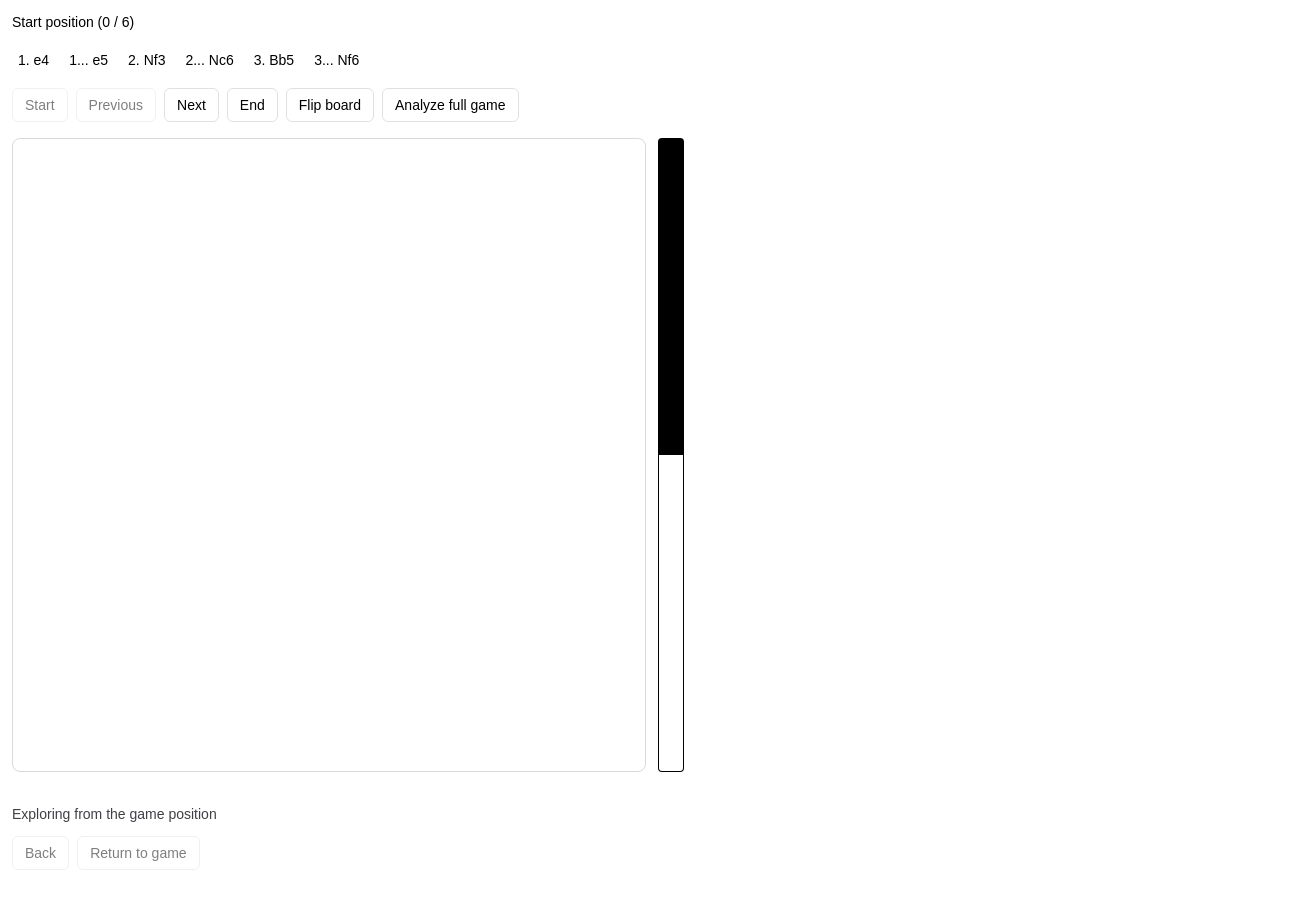
Test: ReviewBoard Opening Integration › updates the label when ply changes
Click the button "Next".
click(191, 105)  # box x1=164 y1=88 x2=219 y2=122
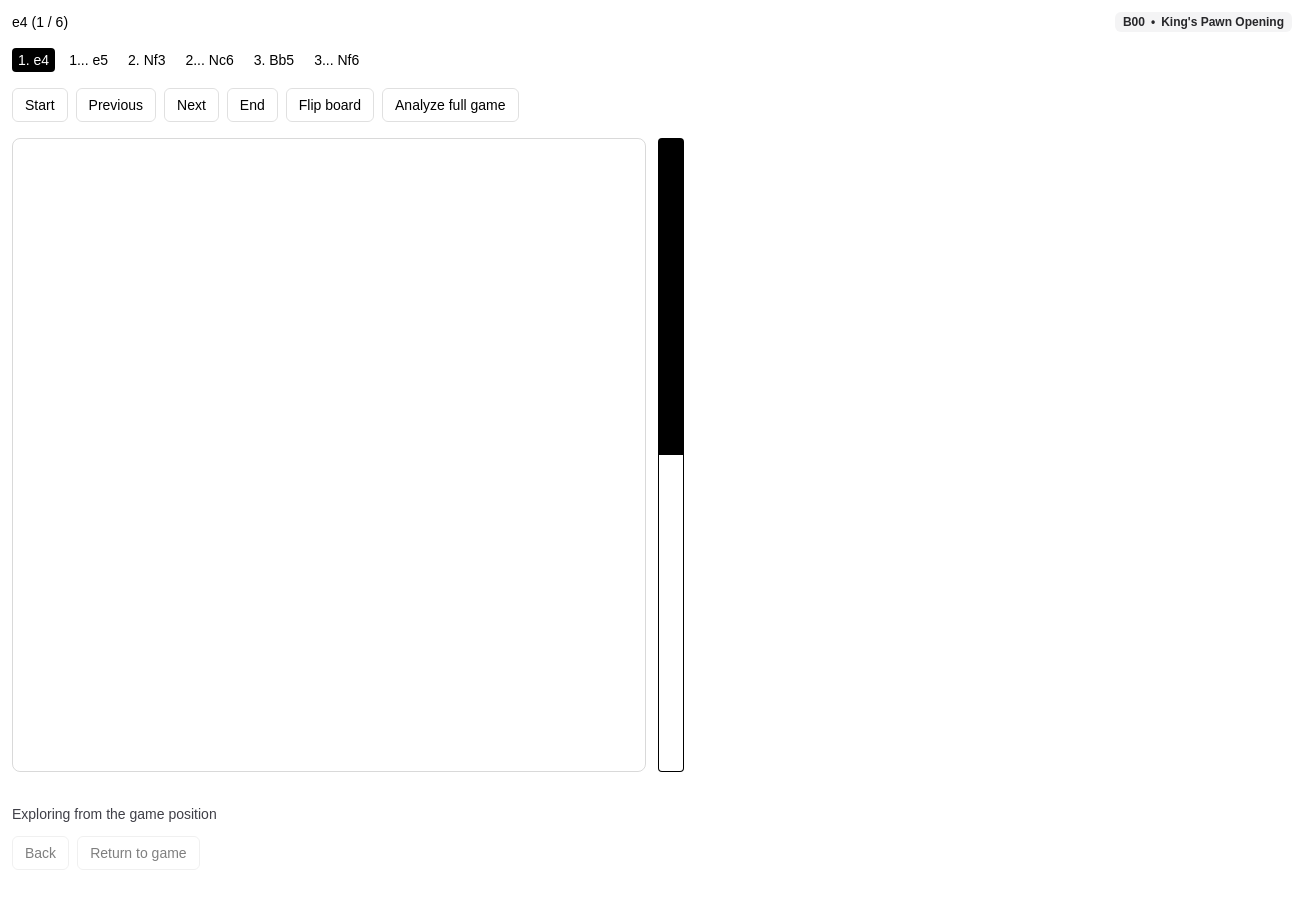
Expected: the text with test id "opening-eco" reads "B00", x1=1123 y1=15 x2=1145 y2=29
Expected: the text with test id "opening-name" reads "King's Pawn Opening", x1=1161 y1=15 x2=1284 y2=29
Click the button "Next".
click(191, 105)  # box x1=164 y1=88 x2=219 y2=122
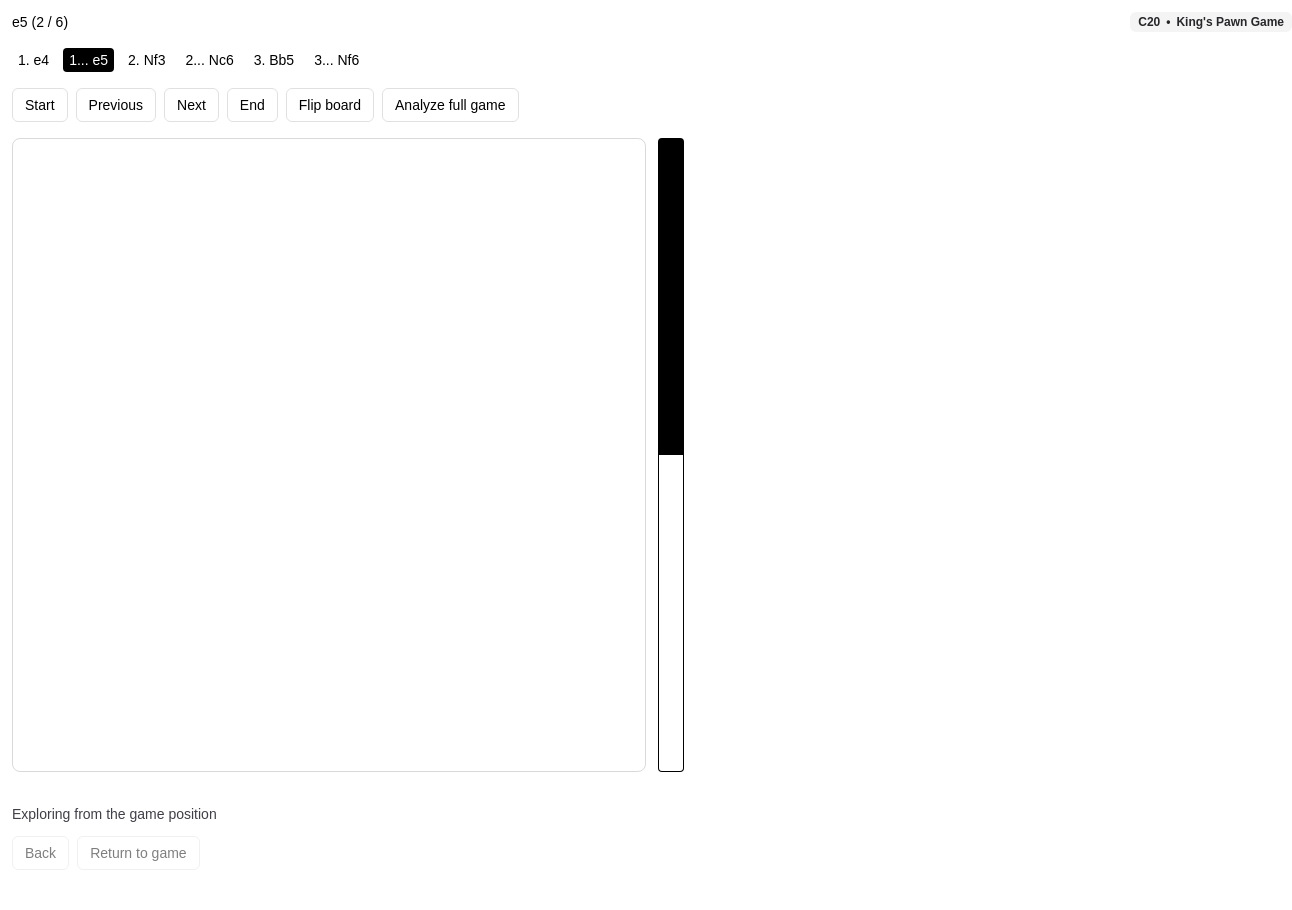
Expected: the text with test id "opening-eco" reads "C20", x1=1138 y1=15 x2=1160 y2=29
Expected: the text with test id "opening-name" reads "King's Pawn Game", x1=1176 y1=15 x2=1284 y2=29
Click the button "Next".
click(191, 105)  # box x1=164 y1=88 x2=219 y2=122
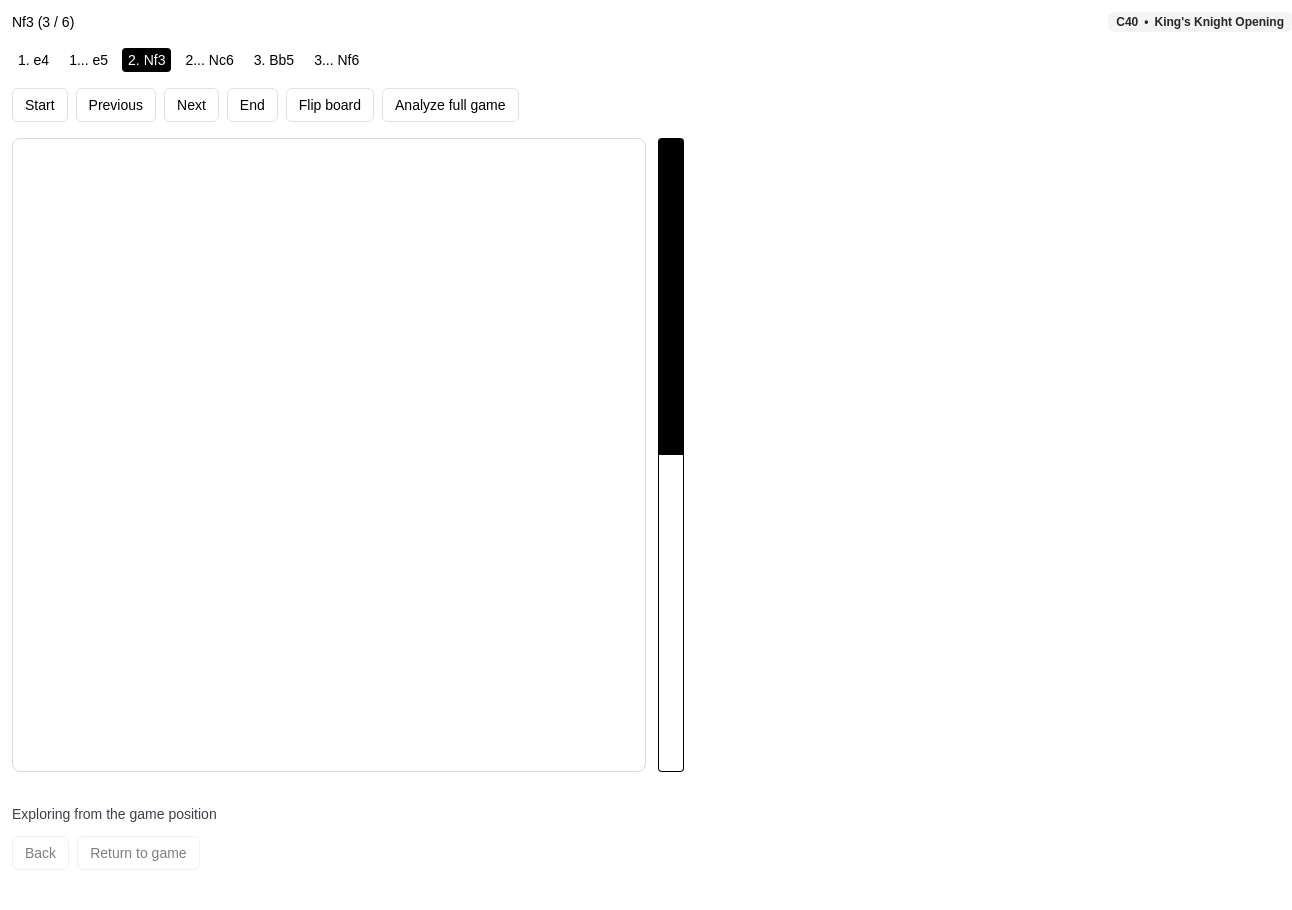
Click the button "Next".
click(191, 105)  # box x1=164 y1=88 x2=219 y2=122
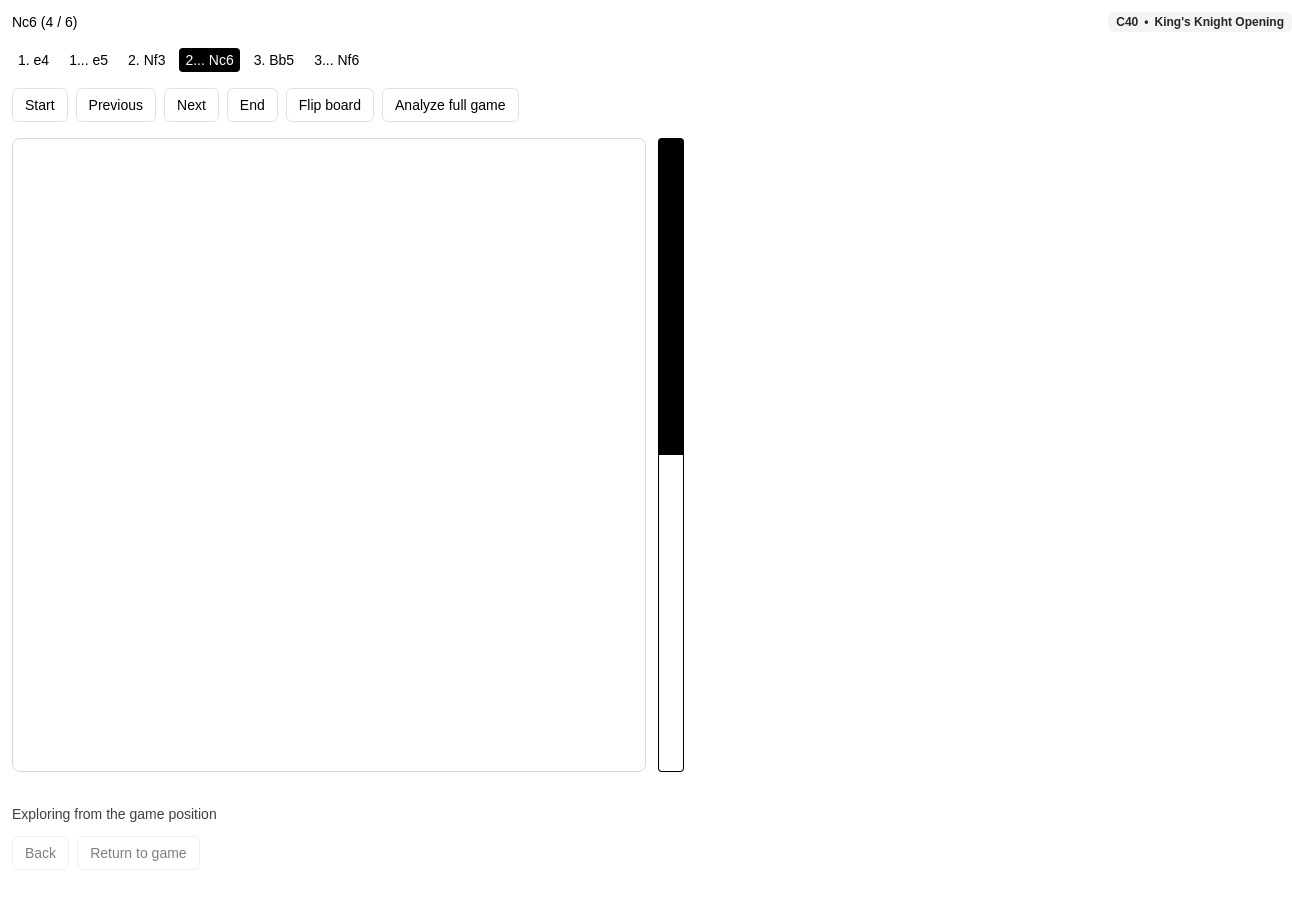
Click the button "Next".
click(191, 105)  # box x1=164 y1=88 x2=219 y2=122
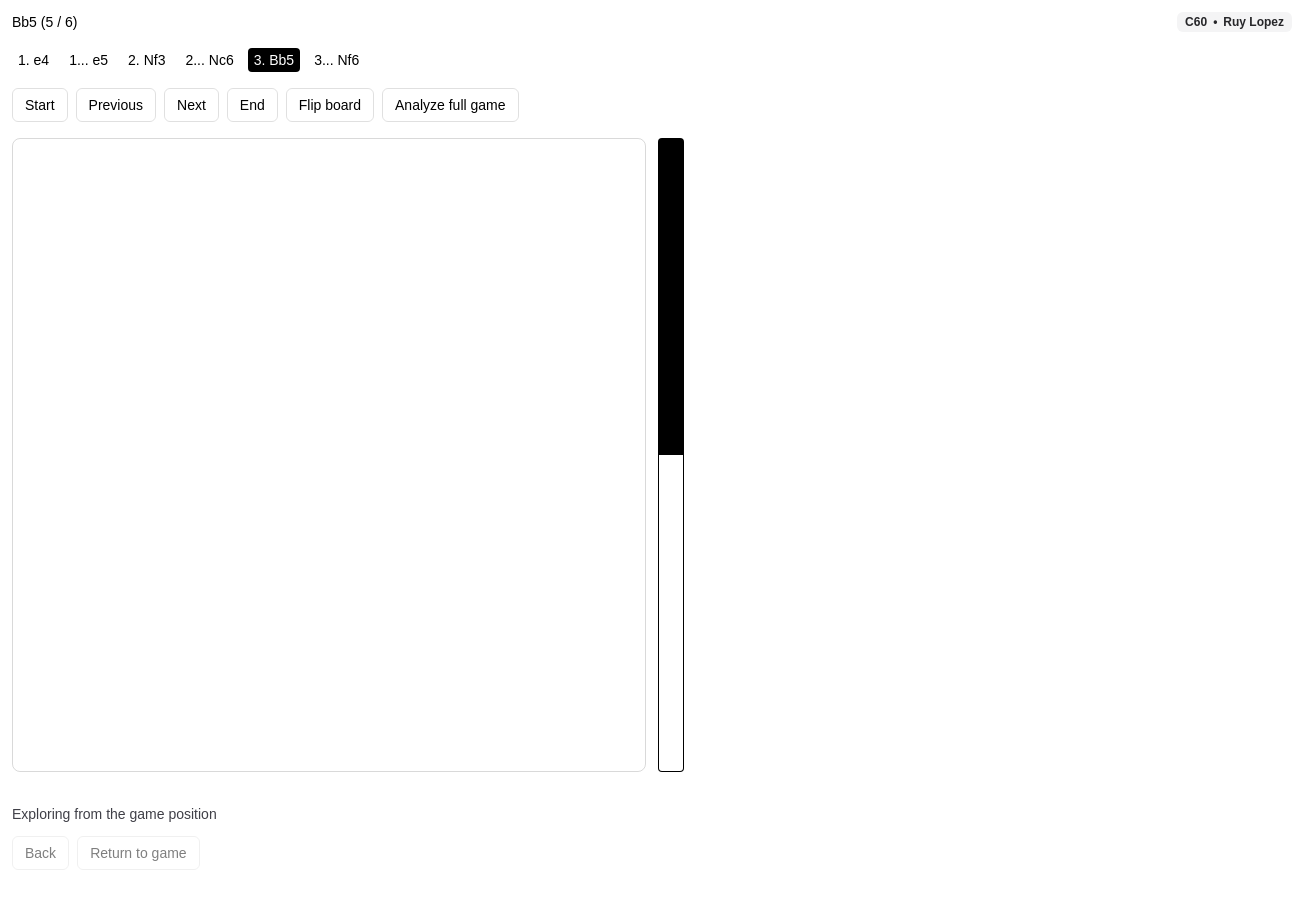
Expected: the text with test id "opening-eco" reads "C60", x1=1185 y1=15 x2=1207 y2=29
Expected: the text with test id "opening-name" reads "Ruy Lopez", x1=1223 y1=15 x2=1284 y2=29
Click the button "Next".
click(191, 105)  # box x1=164 y1=88 x2=219 y2=122
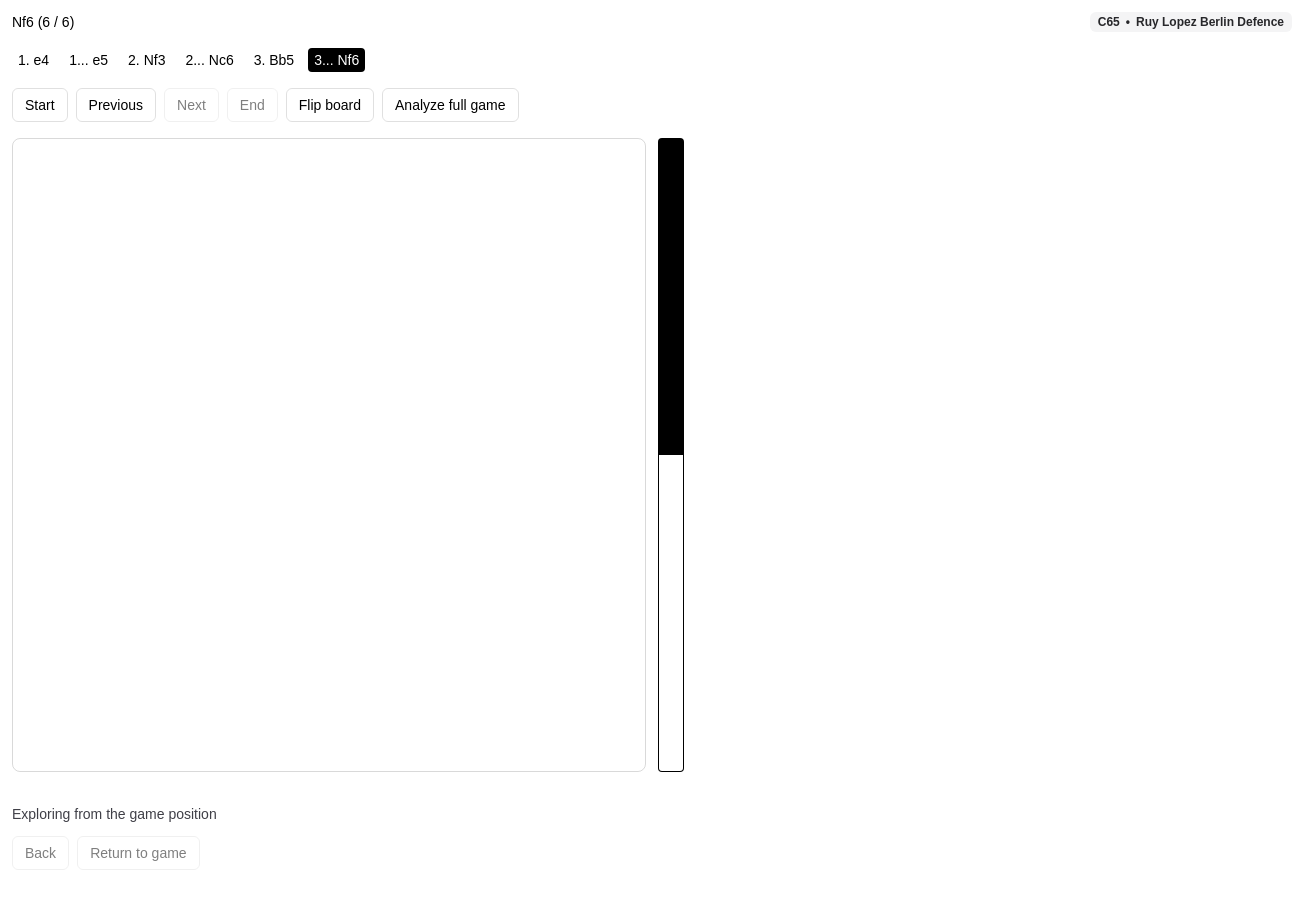
Expected: the text with test id "opening-eco" reads "C65", x1=1098 y1=15 x2=1120 y2=29
Expected: the text with test id "opening-name" reads "Ruy Lopez Berlin Defence", x1=1136 y1=15 x2=1284 y2=29
